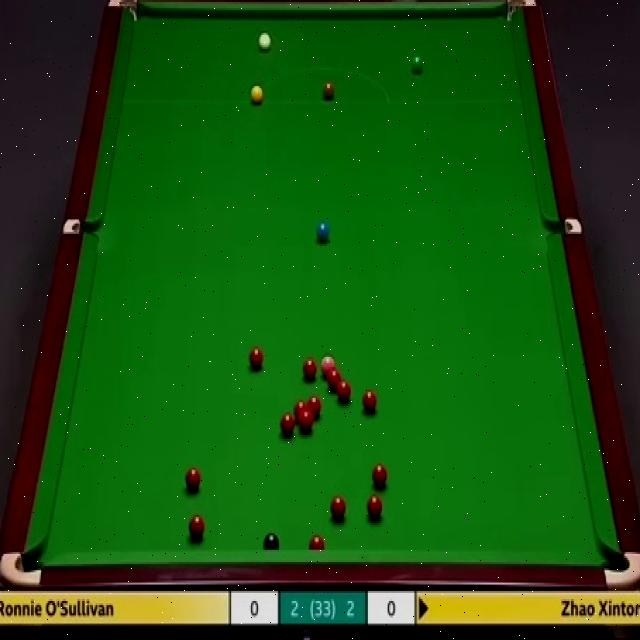black-ball: (262, 529, 280, 553)
blue-ball: (317, 222, 330, 242)
brown-ball: (322, 83, 335, 103)
green-ball: (410, 55, 424, 76)
pink-ball: (320, 352, 335, 376)
red-ball: (366, 492, 384, 521), (330, 493, 347, 520), (371, 462, 388, 489), (184, 466, 202, 491), (248, 344, 264, 371), (188, 513, 205, 538), (336, 381, 352, 406), (280, 412, 296, 436), (298, 408, 314, 432), (362, 389, 378, 413), (302, 356, 317, 380), (308, 394, 323, 418), (326, 369, 342, 388), (308, 534, 324, 550), (294, 400, 308, 418)
white-ball: (258, 30, 271, 53)
yellow-ball: (250, 82, 263, 104)
